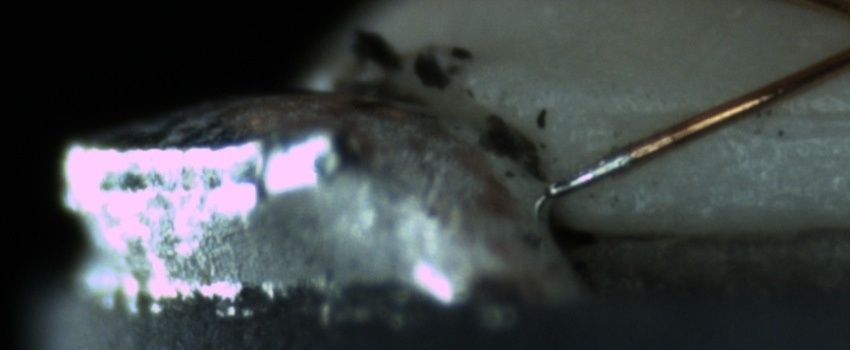DL: (610, 82, 846, 150)
TS: (547, 147, 641, 195)
